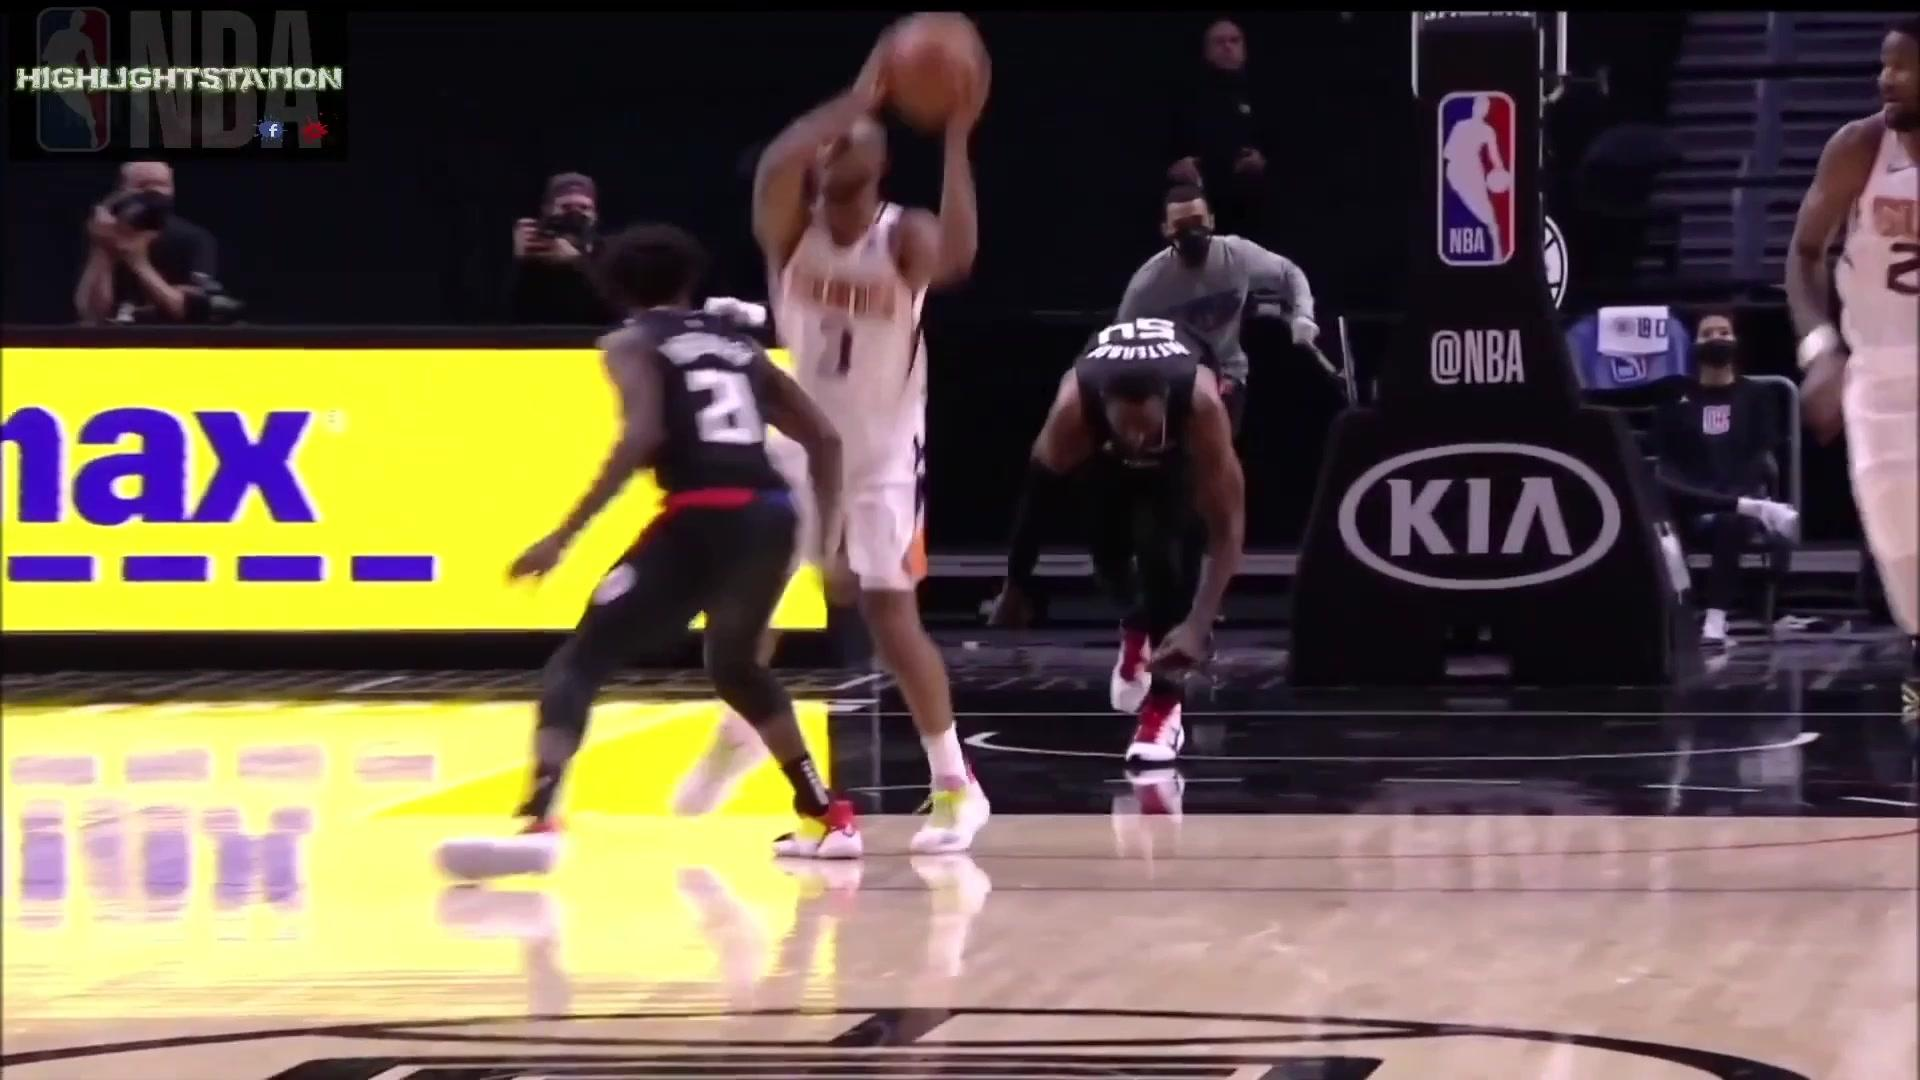no_foul: (454, 100, 1029, 898)
